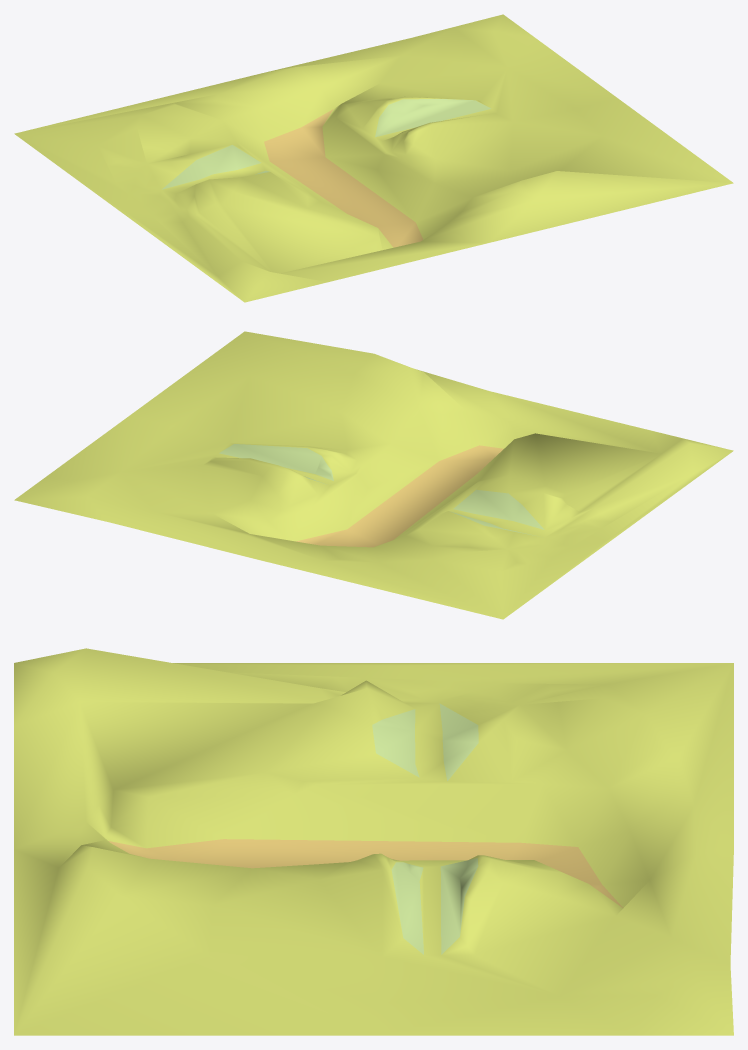
Rendered from ground.fbx.
3 views of the same model, one above another, from view 1: azimuth 30°, elevation 25°; view 2: azimuth 150°, elevation 25°; view 3: azimuth 270°, elevation 25° (orthographic). The views are drawn at different scales.
Parts seen in each view (by area): view 1: terraun; view 2: terraun; view 3: terraun.
Part boxes in pixels (x1,y1,x2,y2): terraun: [14, 14, 733, 302]; terraun: [14, 331, 733, 619]; terraun: [14, 648, 733, 1035].
Size of the model in its own units: 82785 by 9247 by 67601.
